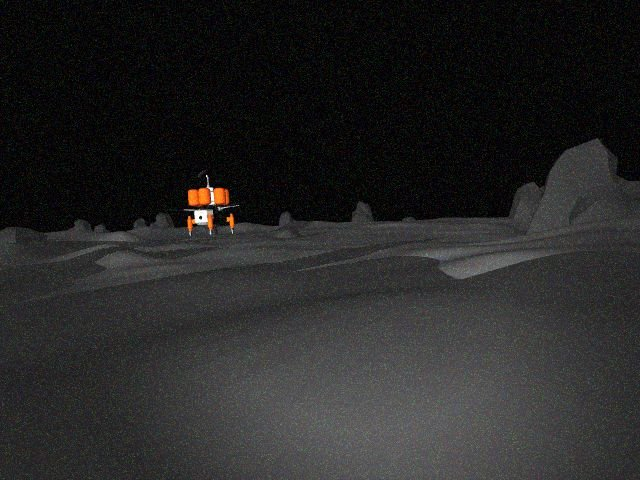homebase: (168, 167, 248, 236)
